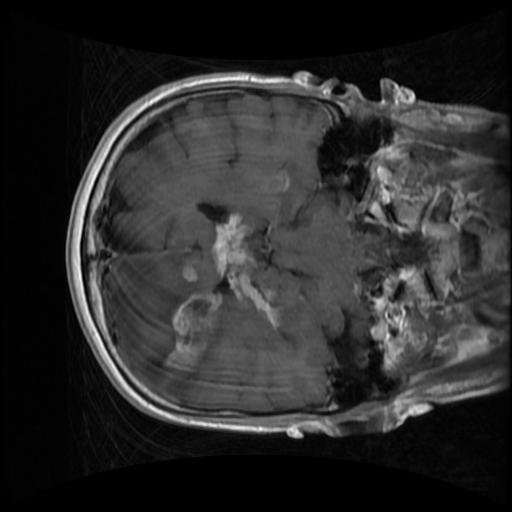glioma: (163, 213, 282, 373)
